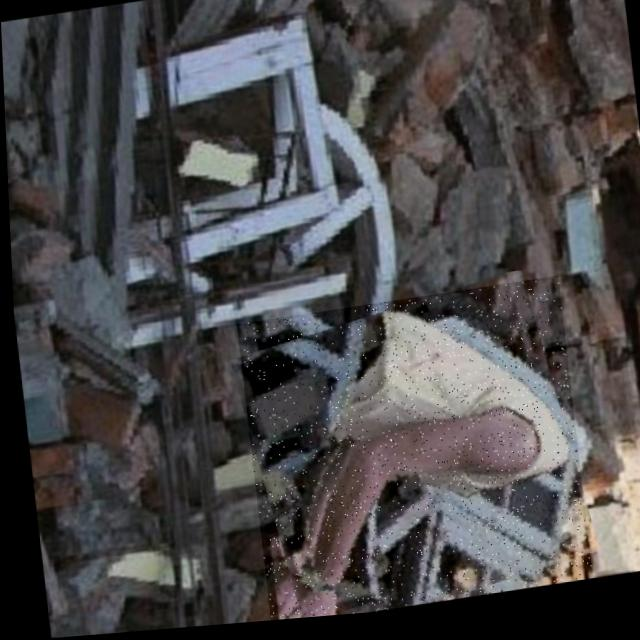Person in Rubble: (231, 283, 585, 626)
